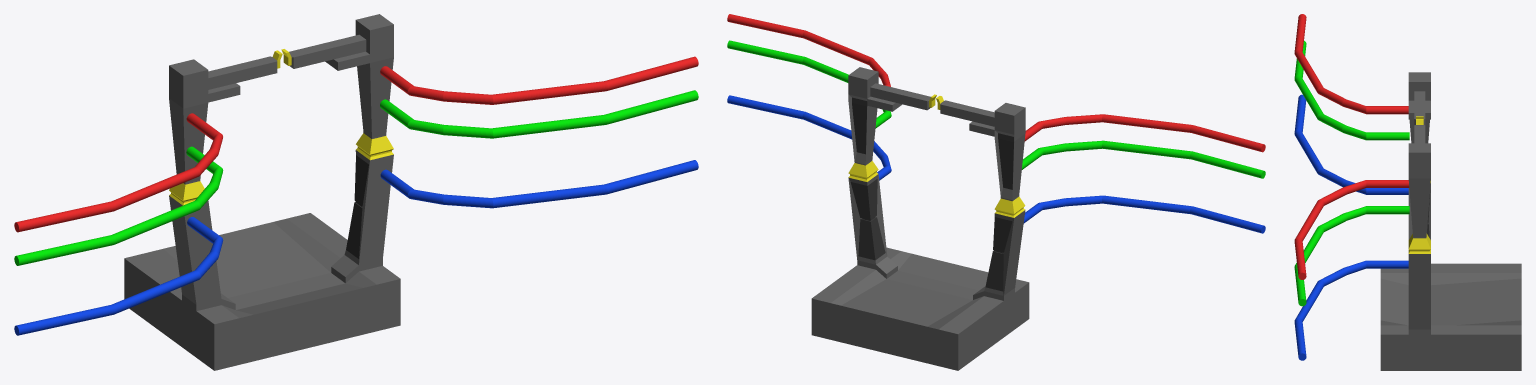
Rendered from TimeMachine.fbx.
3 views of the same model, side by side, from view 1: azimuth 30°, elevation 25°; view 2: azimuth 150°, elevation 25°; view 3: azimuth 270°, elevation 25° (orthographic). The views are drawn at different scales.
Parts seen in each view (by area): view 1: Cube, Цилиндр.002, Цилиндр, Цилиндр.004, Цилиндр.001, Цилиндр.005, Цилиндр.003; view 2: Cube, Цилиндр.003, Цилиндр.005, Цилиндр.001, Цилиндр, Цилиндр.004, Цилиндр.002; view 3: Cube, Цилиндр.001, Цилиндр.004, Цилиндр, Цилиндр.002, Цилиндр.003, Цилиндр.005.
Boxes of the visible parts, bbox=[...] form: Cube: bbox=[124, 14, 400, 370]; Цилиндр.002: bbox=[380, 90, 698, 138]; Цилиндр: bbox=[380, 56, 698, 104]; Цилиндр.004: bbox=[380, 160, 698, 208]; Цилиндр.001: bbox=[14, 113, 222, 232]; Цилиндр.005: bbox=[14, 217, 223, 335]; Цилиндр.003: bbox=[14, 146, 223, 265]; Cube: bbox=[811, 67, 1029, 370]; Цилиндр.003: bbox=[1022, 140, 1265, 178]; Цилиндр.005: bbox=[1023, 195, 1265, 233]; Цилиндр.001: bbox=[1024, 114, 1265, 152]; Цилиндр: bbox=[727, 14, 890, 86]; Цилиндр.004: bbox=[727, 95, 891, 180]; Цилиндр.002: bbox=[727, 40, 891, 128]; Cube: bbox=[1380, 72, 1521, 370]; Цилиндр.001: bbox=[1294, 14, 1408, 114]; Цилиндр.004: bbox=[1294, 260, 1408, 360]; Цилиндр: bbox=[1294, 180, 1409, 279]; Цилиндр.002: bbox=[1294, 206, 1409, 306]; Цилиндр.003: bbox=[1294, 40, 1409, 140]; Цилиндр.005: bbox=[1294, 94, 1408, 194].
Size of the model in its own units: 1904 by 764 by 706.
